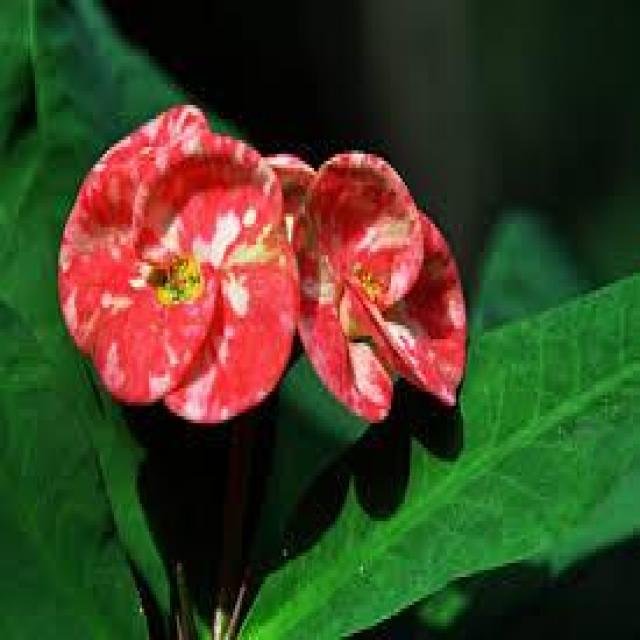organic waste: (56, 100, 323, 446), (271, 140, 478, 434)
